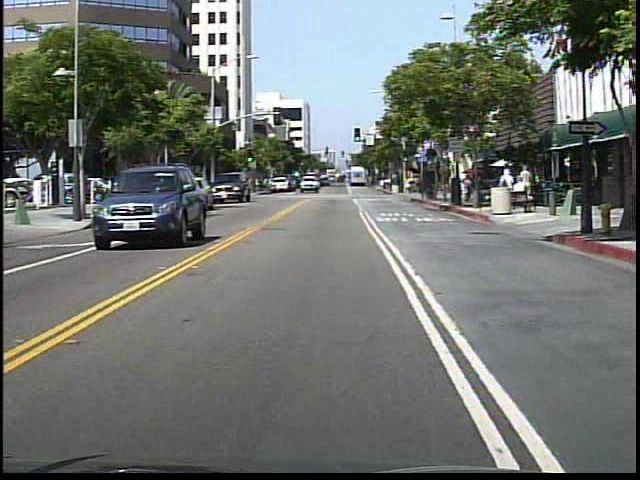person: (461, 172, 476, 206), (261, 172, 274, 198)
